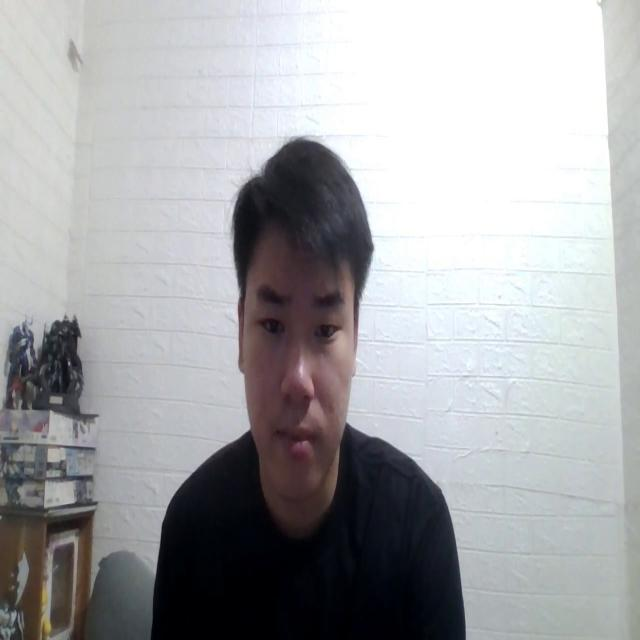student: (144, 130, 471, 640)
